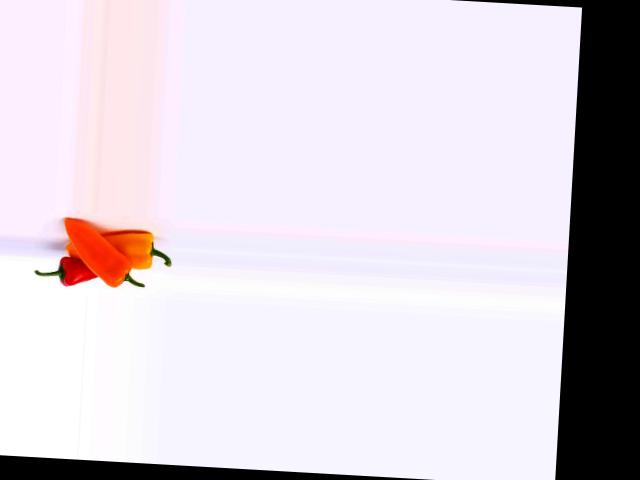bell_pepper: (91, 221, 176, 275)
